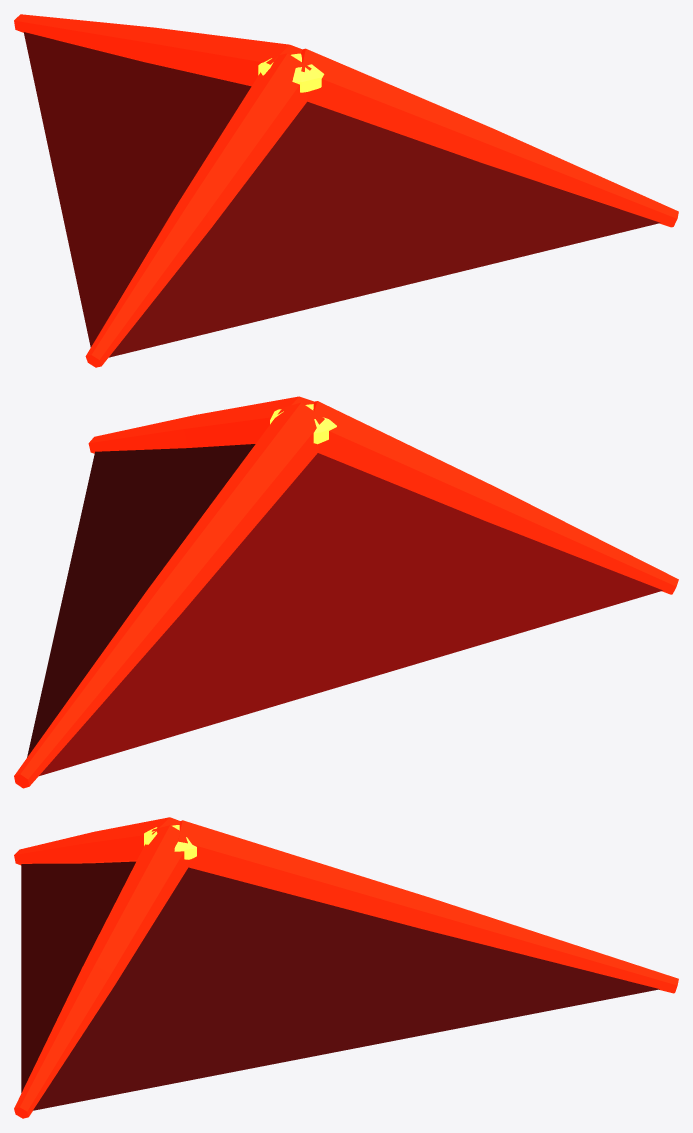
Rendered from newshg-77.glb.
3 renders of one model, top to bottom at view 1: azimuth 30°, elevation 25°; view 2: azimuth 150°, elevation 25°; view 3: azimuth 270°, elevation 25°, orthographic. The views are drawn at different scales.
Parts seen in each view (by area): view 1: newshg-77; view 2: newshg-77; view 3: newshg-77.
Boxes of the visible parts, left/top/right/bottom form: newshg-77: left=14, top=14, right=678, bottom=367; newshg-77: left=14, top=396, right=678, bottom=788; newshg-77: left=14, top=817, right=678, bottom=1118.
Bounding box in the file's own units: 1.5 × 0.4596 × 1.62.
